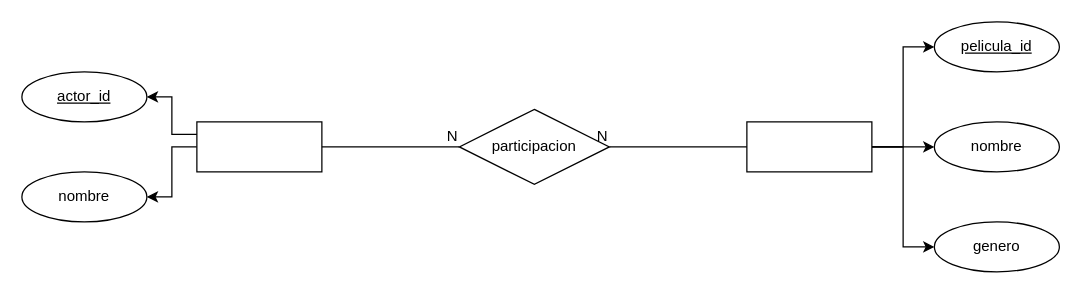
Some shapes in this 1081 by 294 pixel diagram are drawn without their labels. Each missing label, with the box of its shape:
actores: (196, 121, 322, 172)
peliculas: (746, 121, 872, 172)
